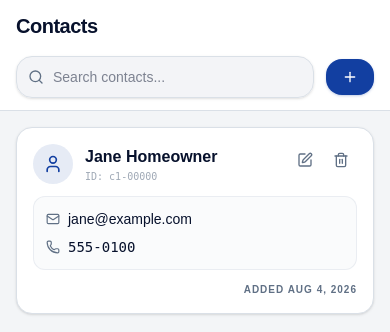
it: Contacts delete retry toast › shows a toast with Retry when the delete fails
This screenshot has width=390, height=332.
Click the button with test id "delete-contact" at (341, 160), box top-left (325, 144), bottom-right (357, 176)
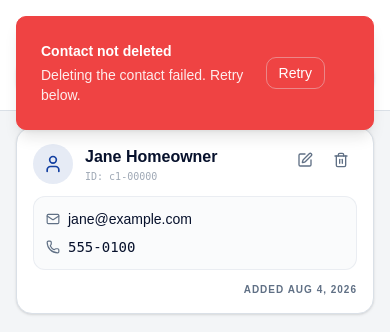
Expected: the text "Contact not deleted" is shown, top-left (41, 43), bottom-right (172, 59)
Expected: the button "Retry" is shown, top-left (266, 57), bottom-right (325, 89)
